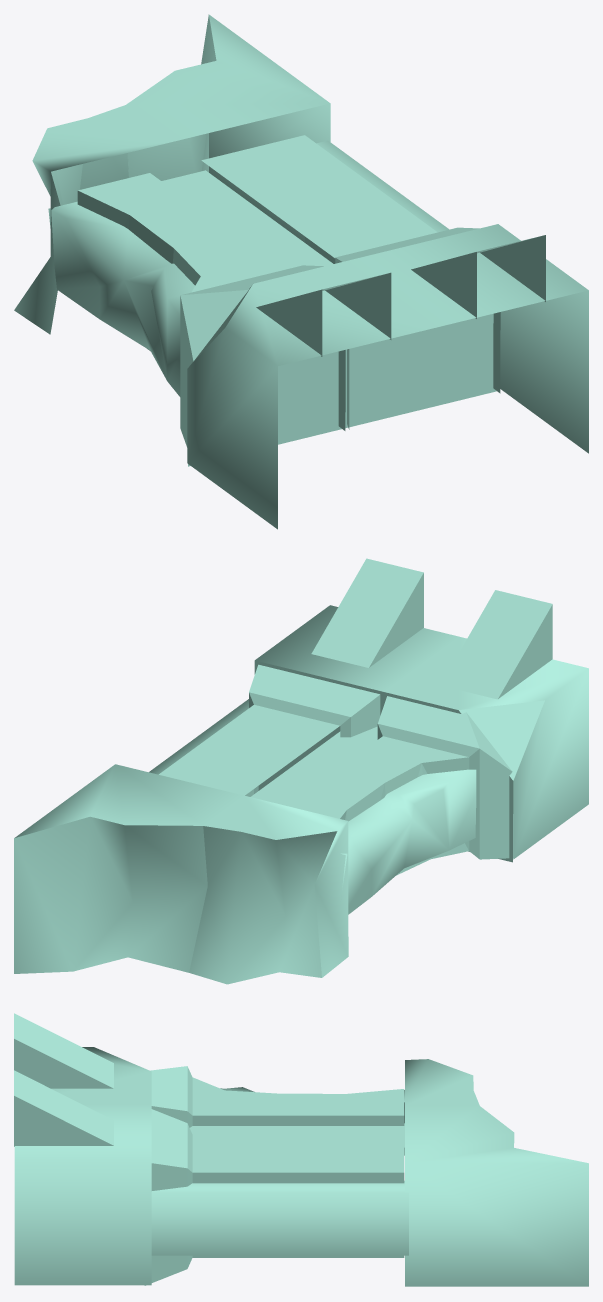
3 renders of one model, top to bottom at view 1: azimuth 30°, elevation 25°; view 2: azimuth 150°, elevation 25°; view 3: azimuth 270°, elevation 25°, orthographic. The views are drawn at different scales.
Visible parts, largest first — view 1: Object67; view 2: Object67; view 3: Object67.
Boxes of the visible parts, <box> form: Object67: <box>14,14,588,529</box>; Object67: <box>14,558,588,984</box>; Object67: <box>14,1013,588,1286</box>.
Bounding box in the file's own units: 13605 × 9757 × 28818.
